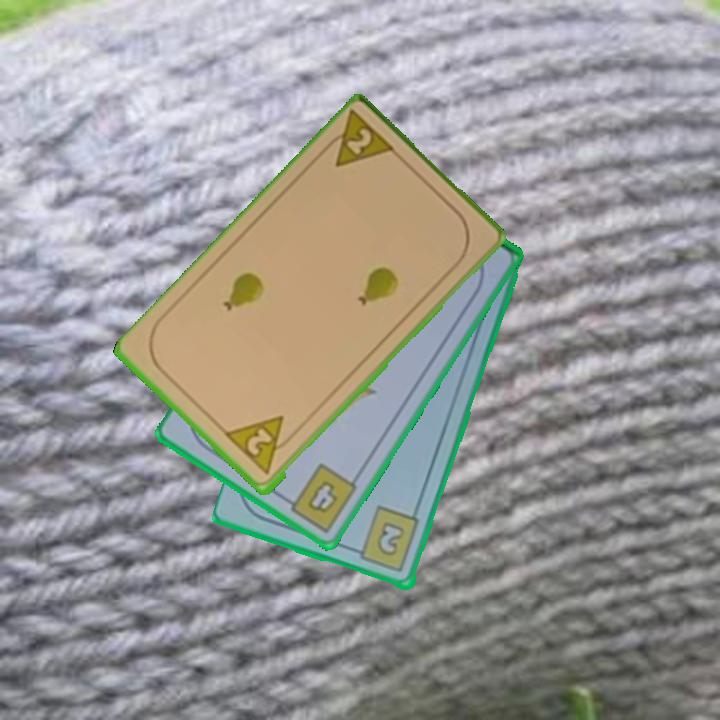2b: (348, 503, 423, 576)
2p: (316, 108, 400, 172), (222, 412, 299, 480)
4b: (279, 460, 360, 536)
